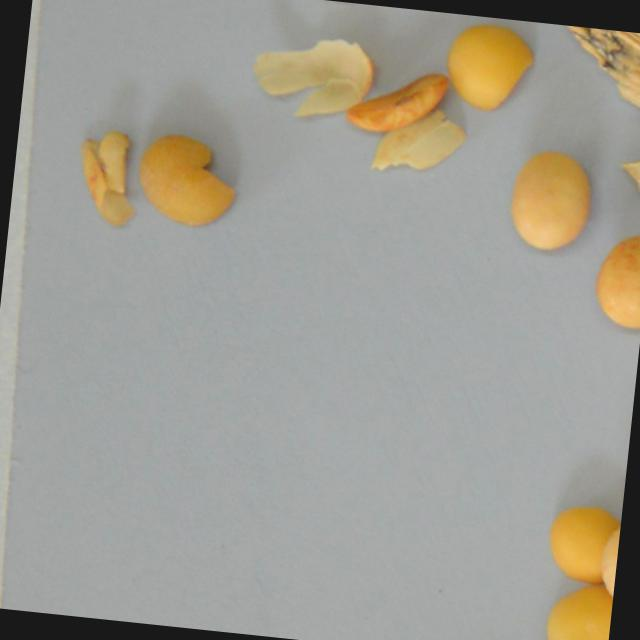cuerpos_extranos: (251, 26, 378, 128), (128, 123, 244, 232), (437, 12, 540, 119), (550, 24, 640, 144), (344, 40, 449, 139), (502, 146, 597, 253), (534, 493, 623, 593), (62, 118, 142, 225), (368, 100, 468, 176), (587, 228, 640, 333), (543, 566, 615, 640), (609, 146, 640, 272), (600, 508, 622, 614)
